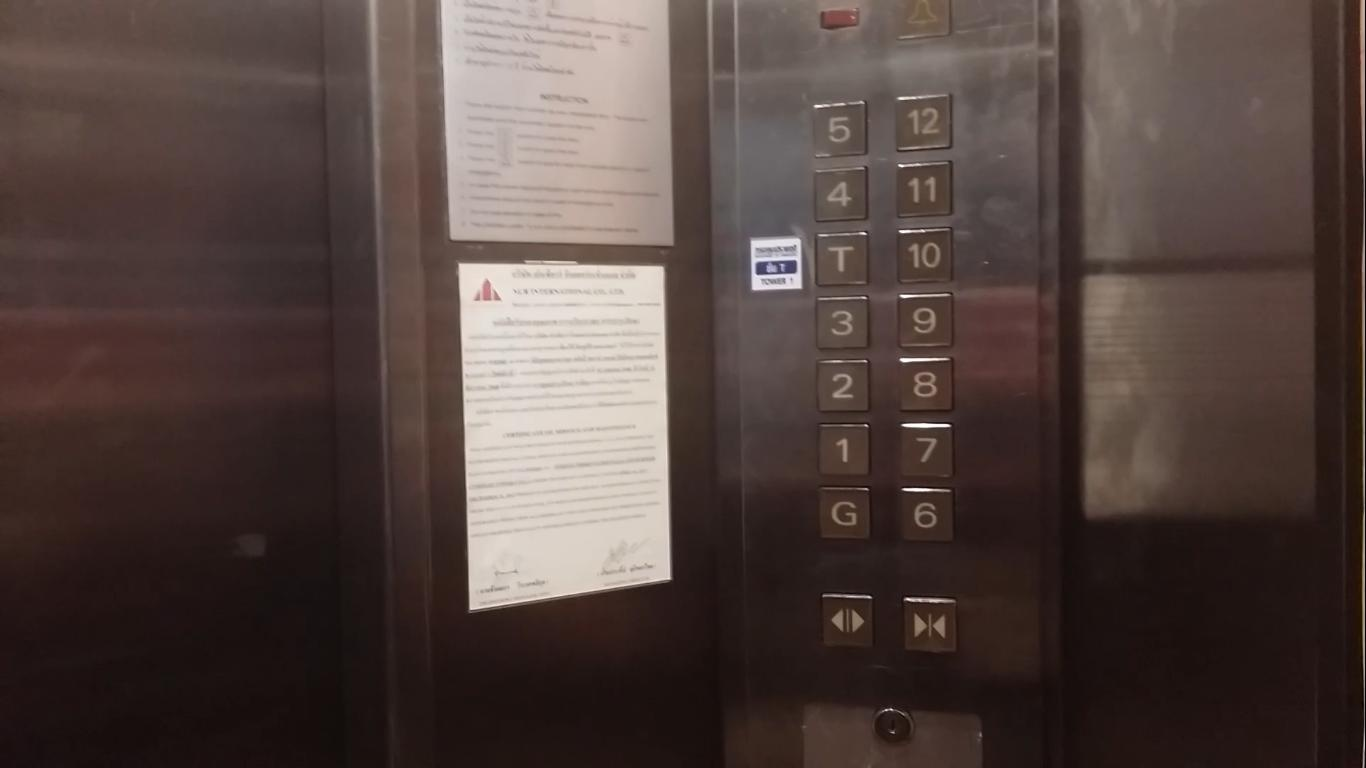1: (814, 419, 874, 480)
10: (892, 226, 957, 287)
11: (891, 160, 953, 221)
12: (890, 91, 954, 155)
2: (812, 356, 873, 415)
3: (813, 294, 871, 350)
4: (810, 165, 873, 225)
5: (809, 98, 870, 159)
6: (895, 484, 956, 548)
7: (894, 419, 956, 481)
8: (895, 352, 957, 415)
9: (893, 289, 957, 350)
G: (814, 483, 874, 542)
T: (812, 229, 874, 289)
alarm: (891, 1, 955, 44)
close: (899, 593, 957, 656)
keyhole: (870, 703, 918, 749)
open: (818, 590, 876, 652)
